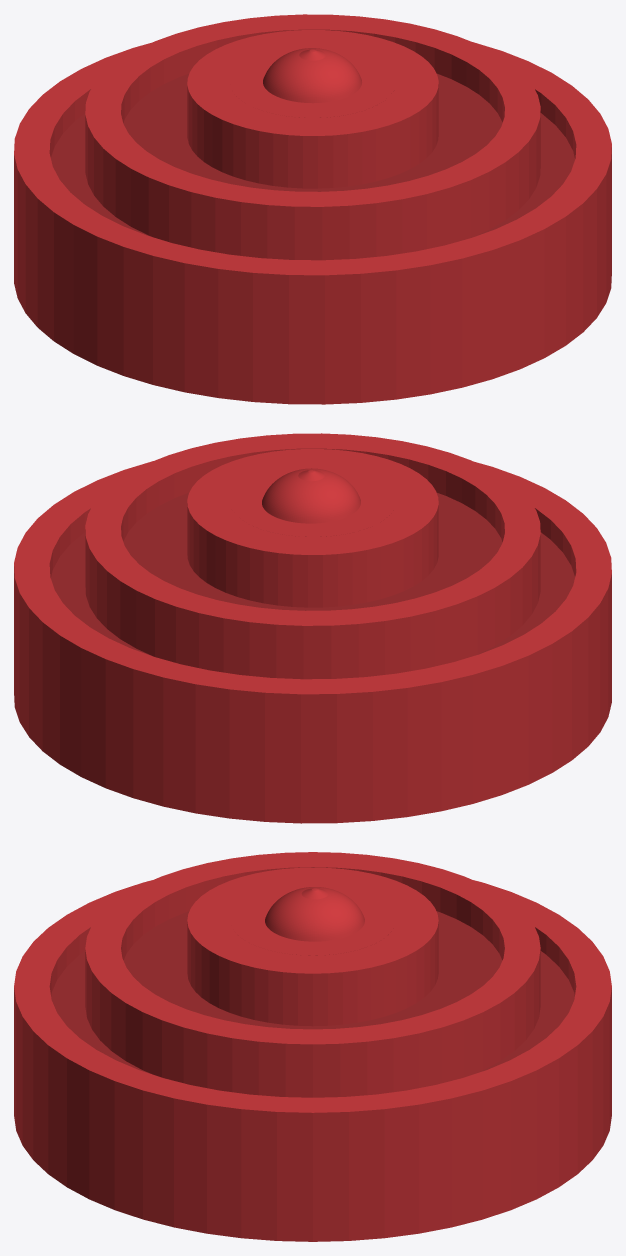
Rendered from Red Stinger2.fbx.
The picture shows the model from 3 angles, top to bottom: view 1: azimuth 30°, elevation 25°; view 2: azimuth 150°, elevation 25°; view 3: azimuth 270°, elevation 25°; orthographic projection.
Parts seen in each view (by area): view 1: Red Stinger; view 2: Red Stinger; view 3: Red Stinger.
Part boxes in pixels (bbox=[...]): Red Stinger: bbox=[14, 14, 611, 404]; Red Stinger: bbox=[14, 433, 611, 823]; Red Stinger: bbox=[14, 852, 611, 1241].
Bounding box in the file's own units: 57.84 × 24.18 × 57.84.
